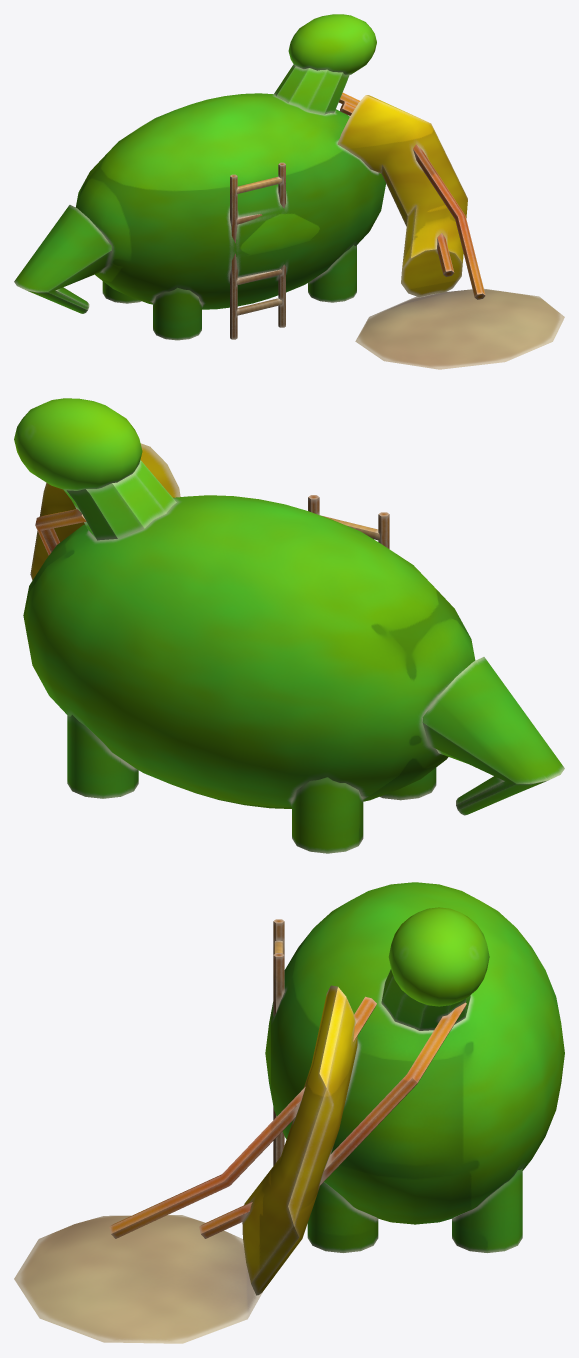
The model's file is dino_slide.glb.
3 renders of one model, top to bottom at view 1: azimuth 30°, elevation 25°; view 2: azimuth 150°, elevation 25°; view 3: azimuth 270°, elevation 25°, orthographic. The views are drawn at different scales.
Parts seen in each view (by area): view 1: SM_DinoSlide; view 2: SM_DinoSlide; view 3: SM_DinoSlide.
Boxes of the visible parts, left/top/right/bottom form: SM_DinoSlide: left=14, top=14, right=564, bottom=369; SM_DinoSlide: left=14, top=398, right=564, bottom=853; SM_DinoSlide: left=14, top=882, right=564, bottom=1343.
Size of what is drawn, in the model's own units: 4.56 by 2.41 by 3.44.
Materials: 1 (1 with a texture image).
